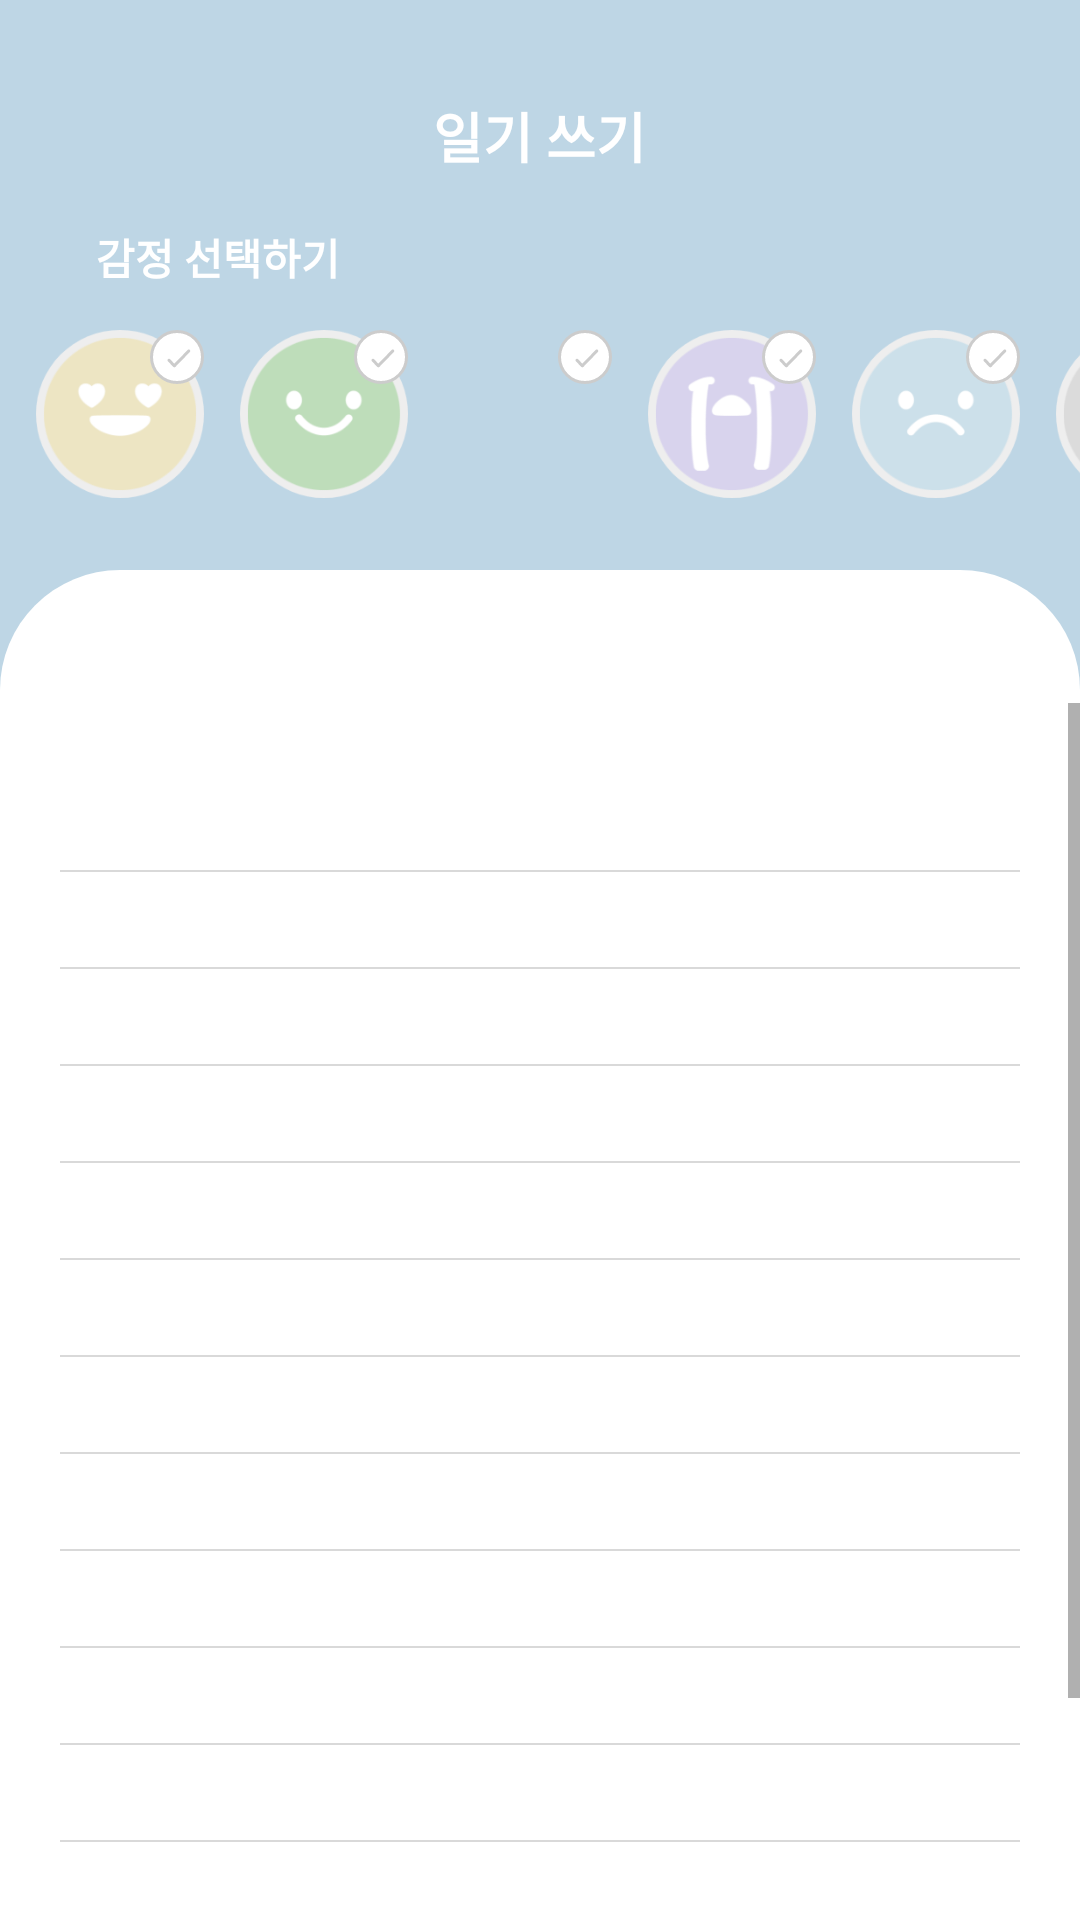

Screen size 1080x1920. Icon name, then its box in pixels as (x1, y1, x2, y2):
emo diary cry: (648, 330, 816, 498)
emo diary good: (240, 330, 408, 498)
emo diary happy: (36, 330, 204, 498)
emo diary sad: (852, 330, 1020, 498)
